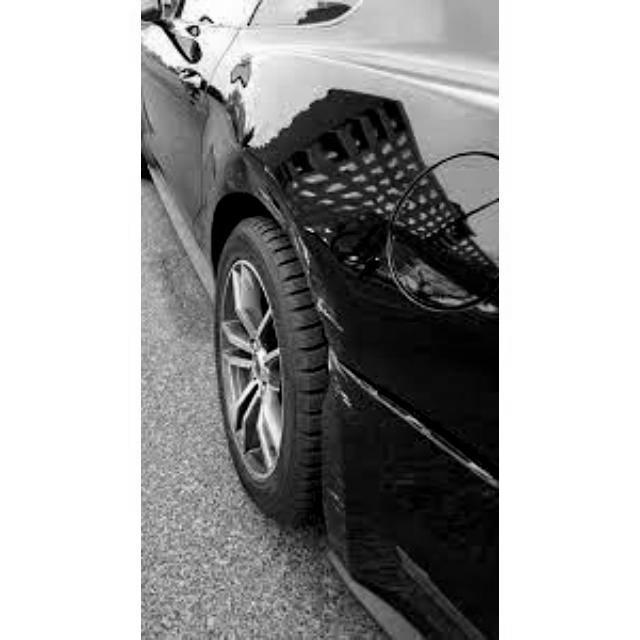quaterpanel-dent: (205, 78, 497, 363)
rear-bumper-dent: (259, 363, 497, 638)
